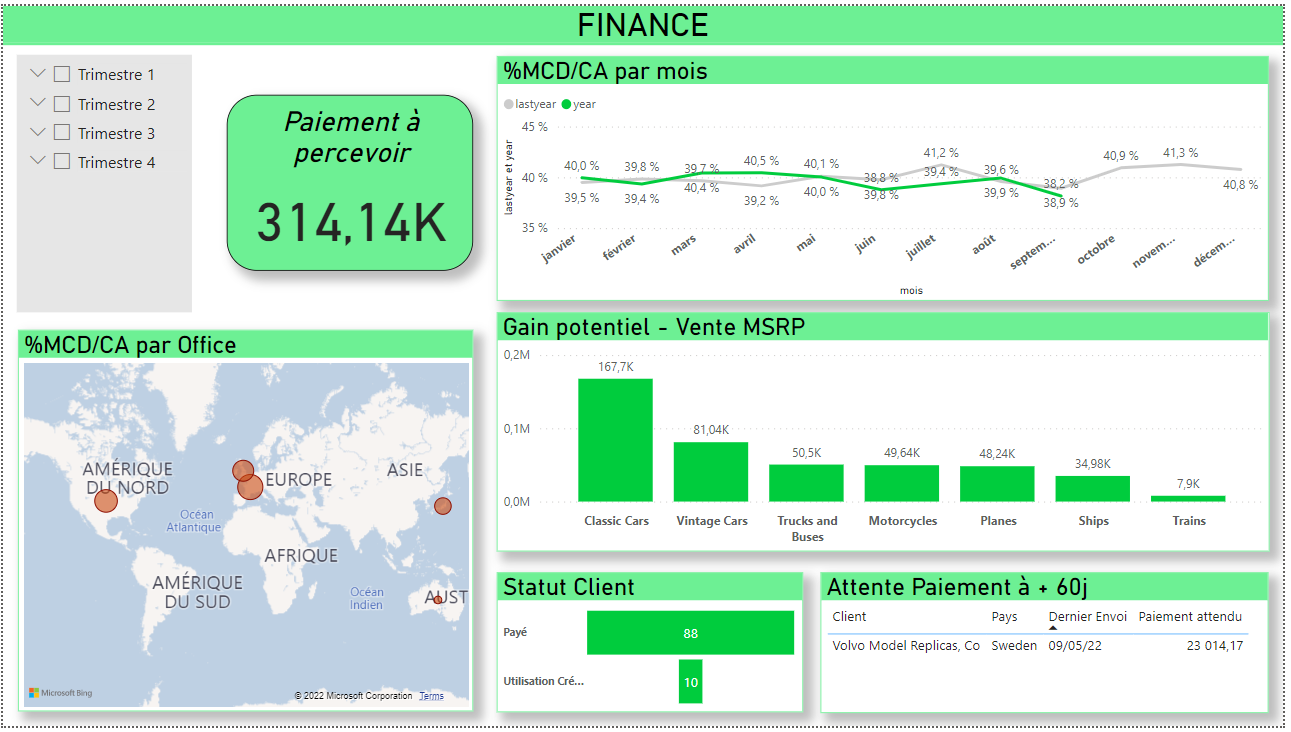

What the dashboard file says about the page in this screenshot:
{"tool":"powerbi","page":{"name":"FINANCE","canvas":[1280,720],"ordinal":0},"visuals":[{"type":"lineChart","title":"%MCD/CA par mois","fields":{"Y":["Requête1.ratio_lastyear","Requête1.ratioyear"],"Category":["HR - Table mois.mois"]},"box":[493.9,50.4,771.8,244.8],"z":0},{"type":"card","title":"Paiement à percevoir","fields":{"Values":["Sum(pending_amount.sum(pending_payment))"]},"box":[223.2,89.3,246.2,175.7],"z":1000},{"type":"funnel","title":"Statut Client","fields":{"Category":["statut_client.payment_status"],"Y":["Sum(statut_client.nb_customers)"]},"box":[493.9,565.9,306.7,139.7],"z":2000},{"type":"shape","title":"FINANCE","box":[0,0,1280.2,38.9],"z":3000},{"type":"map","title":"%MCD/CA par Office","fields":{"Category":["Requête1.pays"],"Size":["Requête1.ratioyear"]},"box":[14.4,324,455,381.6],"z":4000},{"type":"slicer","fields":{"Values":["HR - Table mois.Trimestre","HR - Table mois.mois"]},"box":[14,49.1,175.5,257.4],"z":5000},{"type":"tableEx","title":"Attente Paiement à + 60j","fields":{"Values":["toys_and_models mauvais_payeur (2).customername","toys_and_models mauvais_payeur (2).country","toys_and_models mauvais_payeur (2).derniereenvoi","Sum(toys_and_models mauvais_payeur (2).pendingamount)"]},"box":[817.9,565.9,447.8,141.1],"z":6000},{"type":"clusteredColumnChart","title":"Gain potentiel - Vente MSRP","fields":{"Y":["Sum(Finance - MSRP.Diff)"],"Category":["Finance - MSRP.productline"]},"box":[493.9,305.9,772.4,239.3],"z":7000}]}

Visuals, with their boxes in screenshot pixels (x1, y1, x2, y2), scaled from the page's 1280x720 canvas onto the 1291x732 screenshot:
"%MCD/CA par mois" lineChart: box(498, 51, 1277, 300)
"Paiement à percevoir" card: box(225, 91, 473, 269)
"Statut Client" funnel: box(498, 575, 807, 717)
"FINANCE" shape: box(0, 0, 1290, 40)
"%MCD/CA par Office" map: box(15, 329, 473, 717)
slicer - HR - Table mois.Trimestre x HR - Table mois.mois: box(14, 50, 191, 312)
"Attente Paiement à + 60j" tableEx: box(825, 575, 1277, 719)
"Gain potentiel - Vente MSRP" clusteredColumnChart: box(498, 311, 1277, 554)
